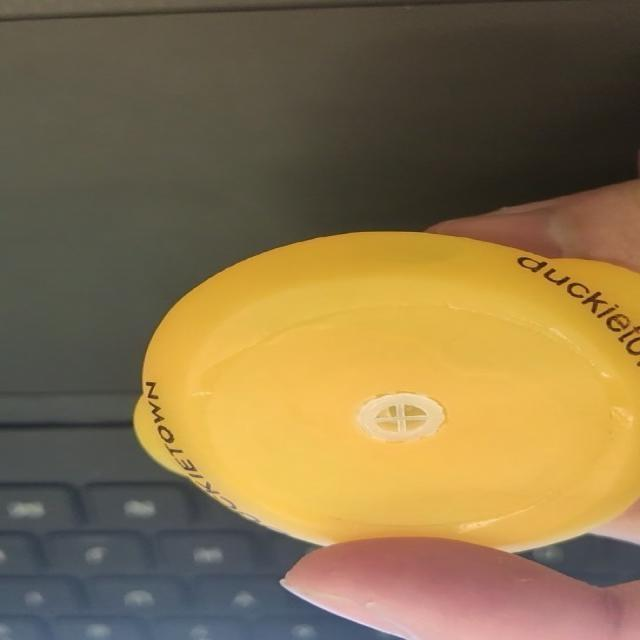rubber-duck: (133, 231, 638, 549)
